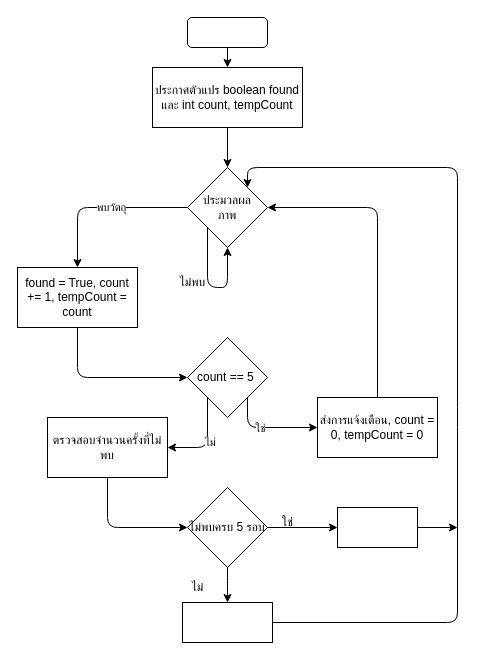
Some shapes in this 483 by 660 pixel diagram are drawn without their labels. Each missing label, with the centre of its shape:
count = 0: point (377, 527)
count = tempCount: point (227, 622)
เริ่มต้น: point (227, 32)
